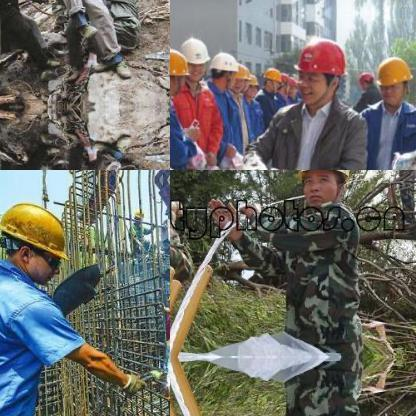Helmet: (0, 194, 75, 284), (292, 33, 343, 103), (291, 170, 354, 207), (372, 51, 412, 104), (182, 34, 209, 80), (208, 52, 236, 88), (170, 45, 185, 94), (260, 64, 280, 94), (358, 69, 376, 93), (244, 72, 258, 98), (234, 59, 244, 93), (132, 204, 144, 223), (166, 286, 169, 306)
